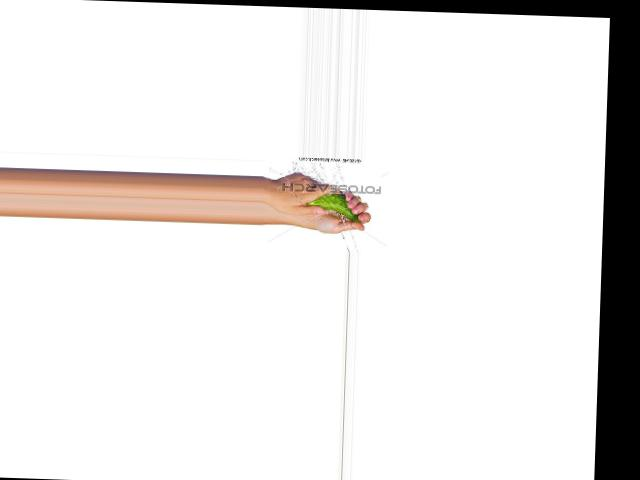cucumber: (303, 191, 361, 222)
